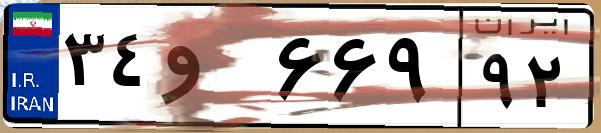2: (525, 38, 570, 115)
3: (57, 26, 110, 100)
4: (110, 28, 158, 98)
6: (270, 28, 330, 110), (330, 28, 385, 110)
9: (385, 28, 445, 110), (475, 38, 525, 113)
و: (158, 20, 270, 120)
